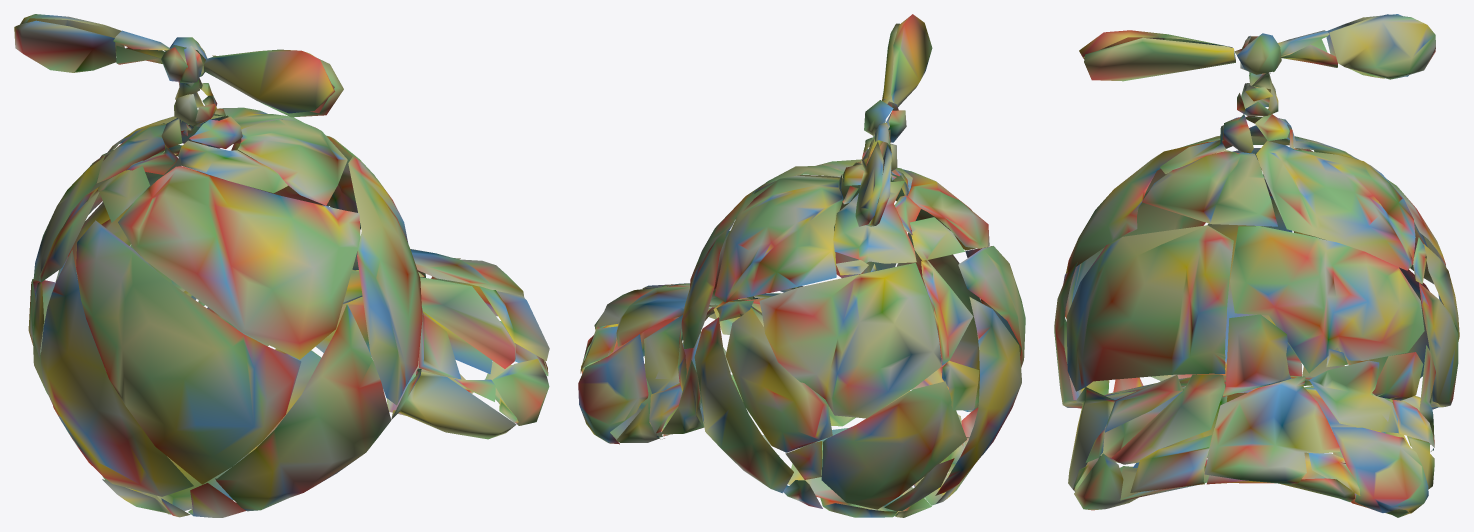
The model's file is propeller-beanie.glb.
3 renders of one model, left to right at view 1: azimuth 30°, elevation 25°; view 2: azimuth 150°, elevation 25°; view 3: azimuth 270°, elevation 25°, orthographic. The views are drawn at different scales.
Visible parts, largest first — view 1: SM_Hat_PropellerBeanie; view 2: SM_Hat_PropellerBeanie; view 3: SM_Hat_PropellerBeanie.
Part boxes in pixels (<box>): SM_Hat_PropellerBeanie: <box>14,14,549,517</box>; SM_Hat_PropellerBeanie: <box>578,14,1025,517</box>; SM_Hat_PropellerBeanie: <box>1054,14,1459,517</box>.
Size of the model in its own units: 0.2479 by 0.25 by 0.2076.
